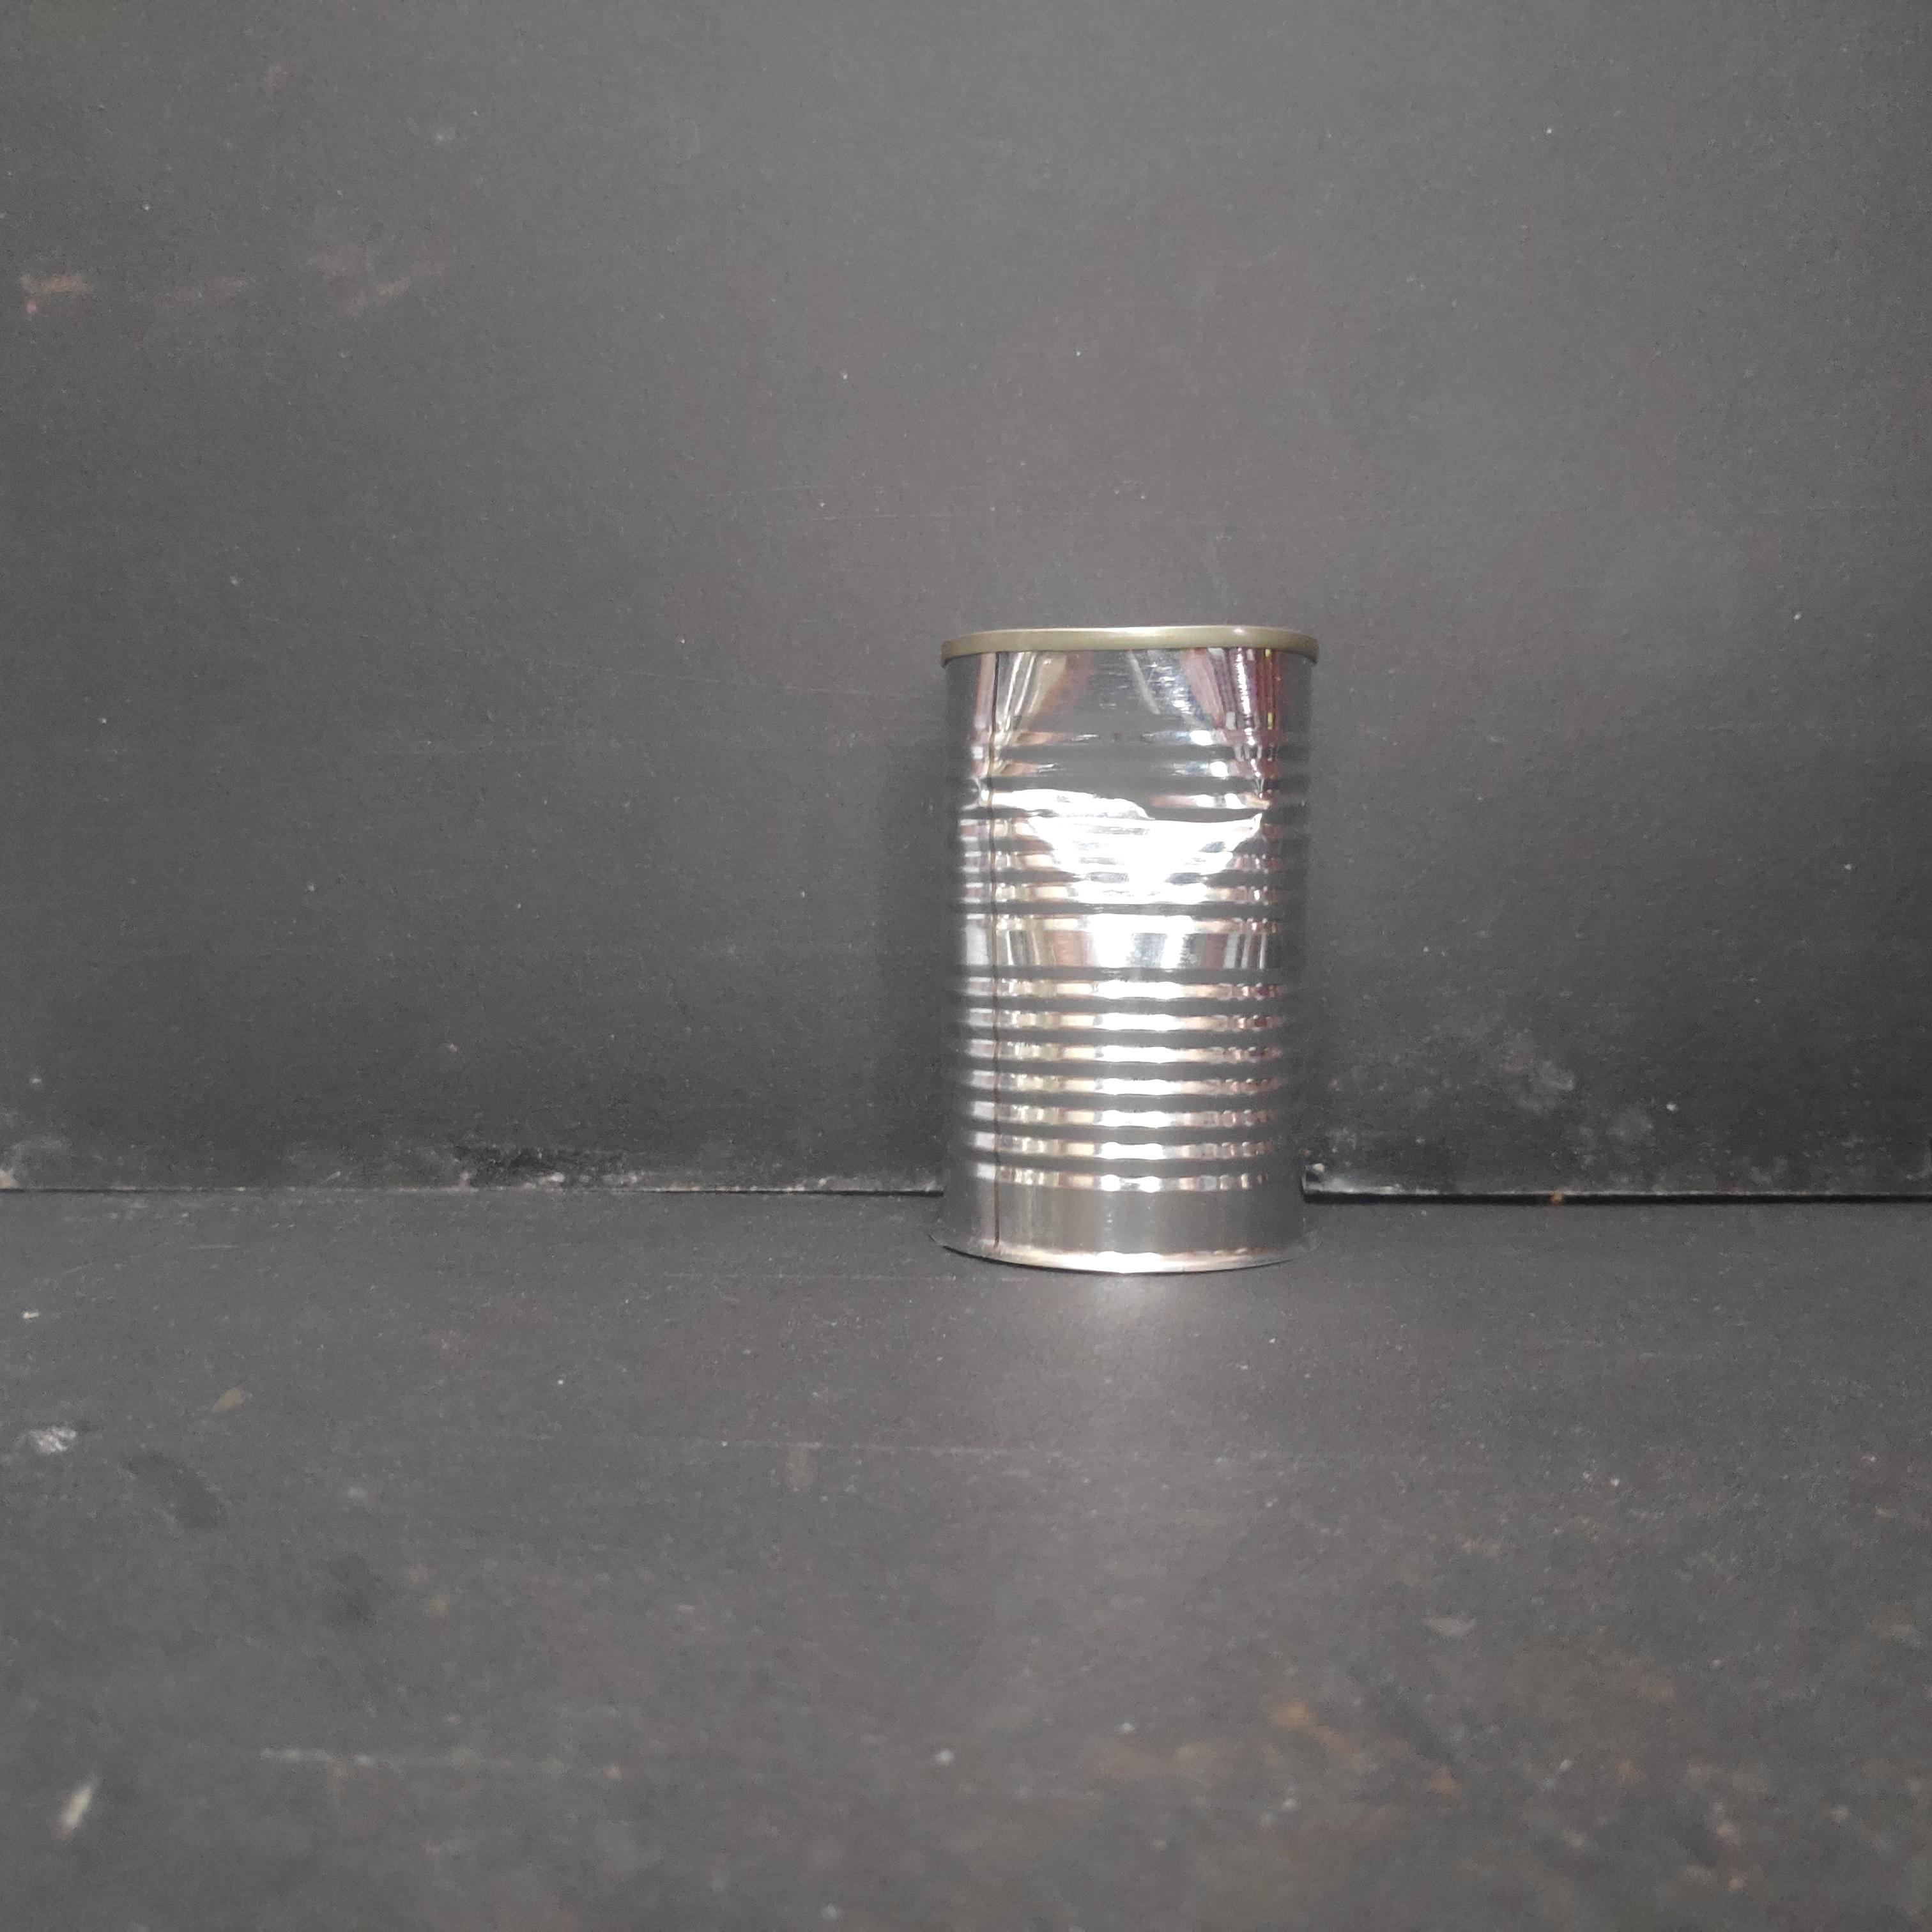Minor Defect: (927, 610, 1327, 1292)
